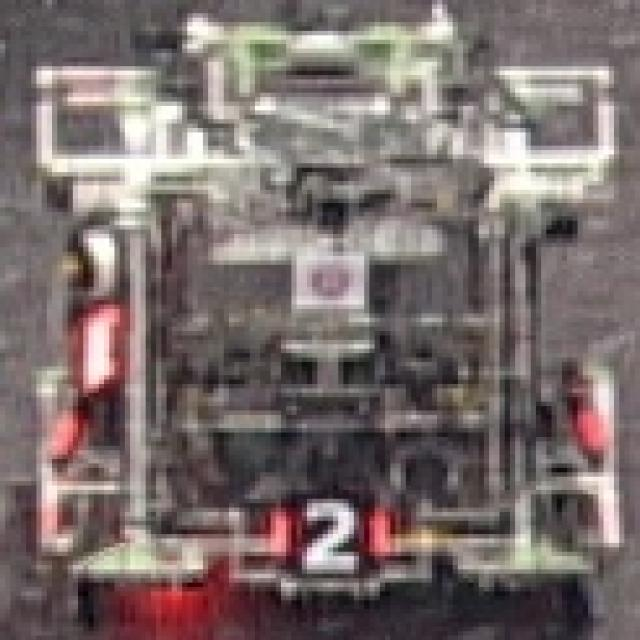R2: (266, 494, 396, 574)
